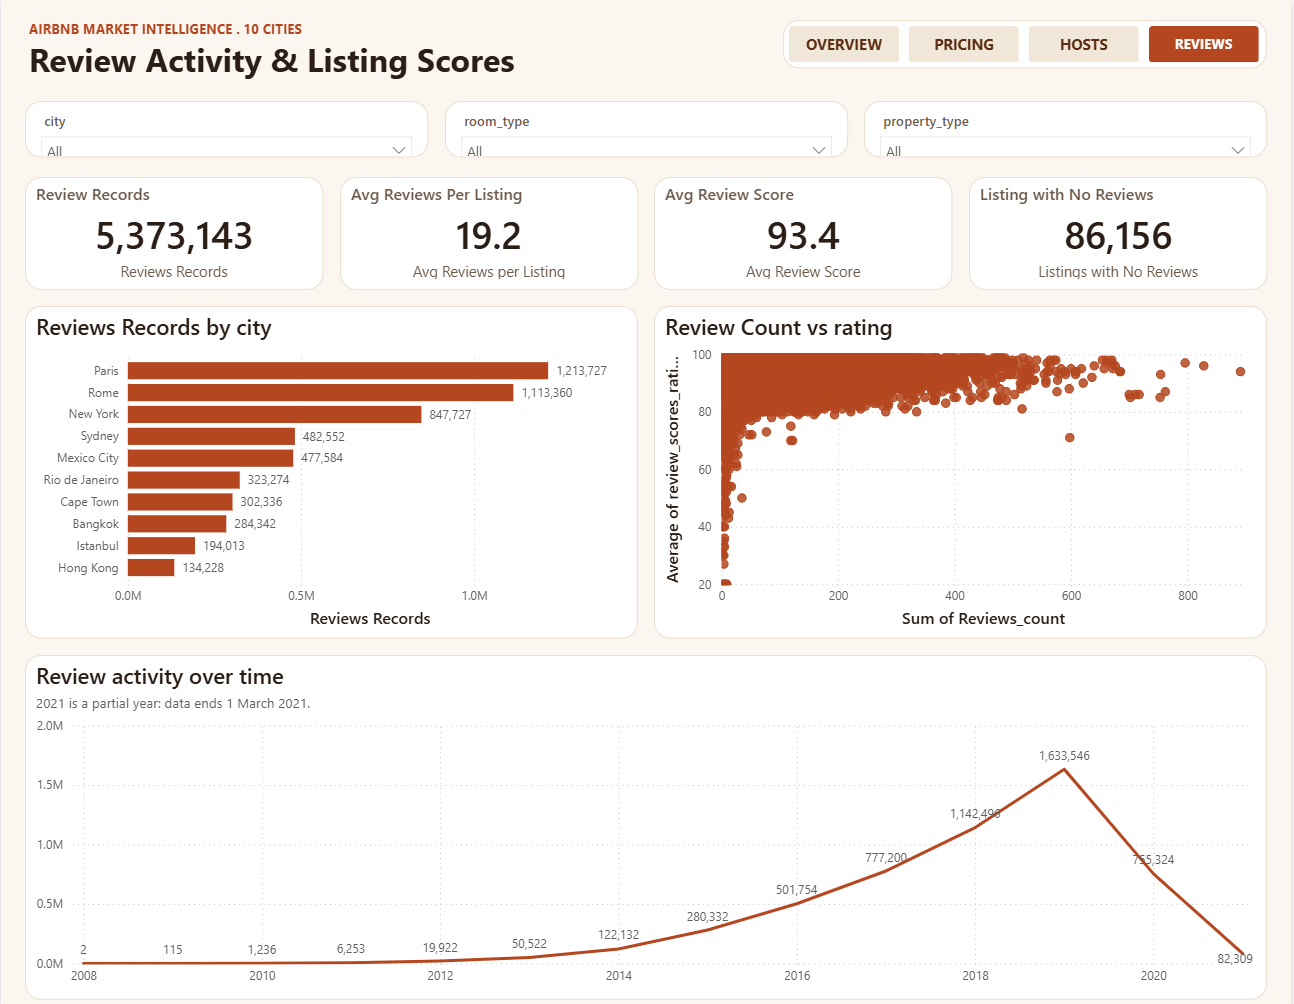

What the dashboard file says about the page in this screenshot:
{"tool":"powerbi","page":{"name":"REVIEWS","canvas":[1280,1000],"ordinal":3},"visuals":[{"type":"textbox","box":[24,16,600,72],"z":0},{"type":"pageNavigator","box":[776,20,480,48],"z":1000},{"type":"slicer","fields":{"Values":["Cities.city"]},"box":[24,100,400,56],"z":2000},{"type":"slicer","fields":{"Values":["Listings_clean.room_type"]},"box":[440,100,400,56],"z":3000},{"type":"slicer","fields":{"Values":["Listings_clean.property_type"]},"box":[856,100,400,56],"z":4000},{"type":"card","title":"Review Records","fields":{"Values":["Listings_clean.Total Review Records"]},"box":[24,176,296,112],"z":5000},{"type":"card","title":"Avg Reviews Per Listing","fields":{"Values":["Listings_clean.Avg Reviews per Listing"]},"box":[336,176,296,112],"z":6000},{"type":"card","title":"Avg Review Score","fields":{"Values":["Listings_clean.Avg Review Score"]},"box":[648,176,296,112],"z":7000},{"type":"card","title":"Listing with No Reviews","fields":{"Values":["Listings_clean.Listings with No Reviews"]},"box":[960,176,296,112],"z":8000},{"type":"clusteredBarChart","fields":{"Category":["Cities.city"],"Y":["Listings_clean.Reviews Records"]},"box":[24,304,608,330],"z":9000},{"type":"scatterChart","title":"Review Count vs rating","fields":{"Category":["Listings_clean.listing_id"],"X":["Sum(vw_reviews_per_listing.Reviews_count)"],"Y":["Avg(Listings_clean.review_scores_rating)"]},"box":[648,304,608,330],"z":10000},{"type":"lineChart","title":"Review activity over time","fields":{"Category":["vw_reviews_per_month_city.review_month.Variation.Date Hierarchy.Year","vw_reviews_per_month_city.review_month.Variation.Date Hierarchy.Quarter","vw_reviews_per_month_city.review_month.Variation.Date Hierarchy.Month","vw_reviews_per_month_city.review_month.Variation.Date Hierarchy.Day"],"Y":["Listings_clean.Reviews Records"]},"box":[24,650,1232,342],"z":11000}]}

Visuals, with their boxes in screenshot pixels (x1, y1, x2, y2), scaled from the page's 1280x1000 canvas onto the 1294x1004 screenshot:
textbox: box=[24, 16, 631, 88]
pageNavigator: box=[784, 20, 1270, 68]
slicer - Cities.city: box=[24, 100, 429, 157]
slicer - Listings_clean.room_type: box=[445, 100, 849, 157]
slicer - Listings_clean.property_type: box=[865, 100, 1270, 157]
"Review Records" card: box=[24, 177, 324, 289]
"Avg Reviews Per Listing" card: box=[340, 177, 639, 289]
"Avg Review Score" card: box=[655, 177, 954, 289]
"Listing with No Reviews" card: box=[970, 177, 1270, 289]
clusteredBarChart - Cities.city x Listings_clean.Reviews Records: box=[24, 305, 639, 637]
"Review Count vs rating" scatterChart: box=[655, 305, 1270, 637]
"Review activity over time" lineChart: box=[24, 653, 1270, 996]
